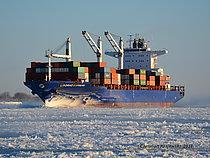Ship: (21, 26, 189, 111)
